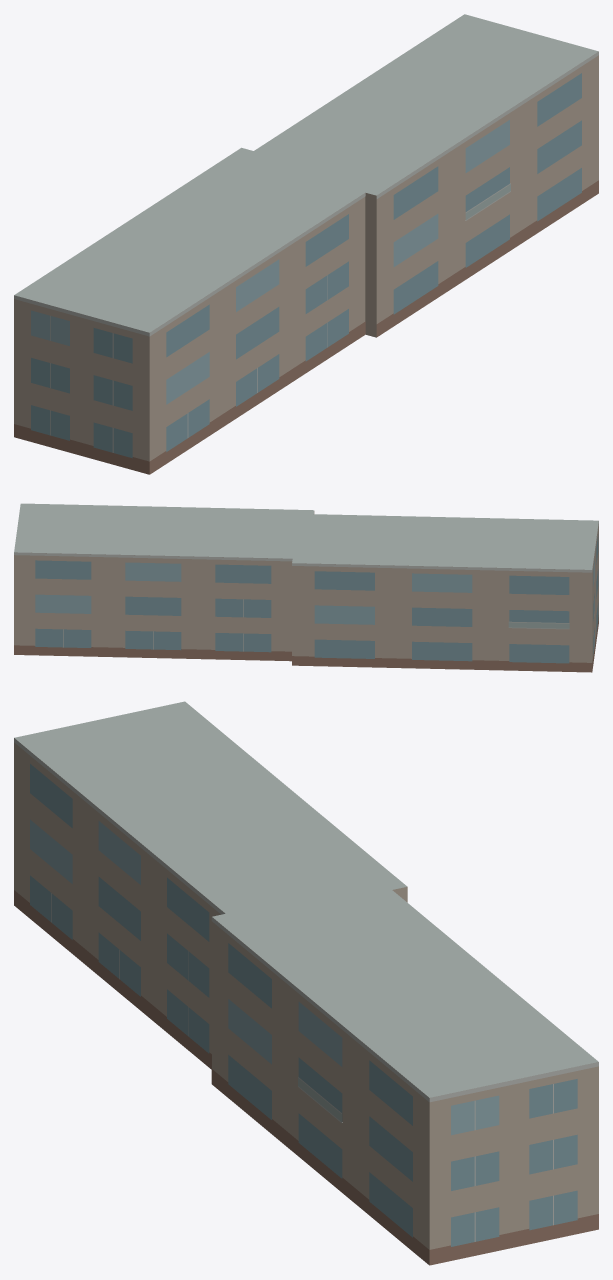
File: survey-upis-32707403.glb
The picture shows the model from 3 angles, top to bottom: view 1: azimuth 30°, elevation 25°; view 2: azimuth 150°, elevation 25°; view 3: azimuth 270°, elevation 25°; orthographic projection. The views are drawn at different scales.
Visible parts, largest first — view 1: survey-upis-32707403.tmp; view 2: survey-upis-32707403.tmp; view 3: survey-upis-32707403.tmp.
Boxes of the visible parts, x1=… form: survey-upis-32707403.tmp: x1=14, y1=14, x2=598, y2=474; survey-upis-32707403.tmp: x1=14, y1=503, x2=598, y2=672; survey-upis-32707403.tmp: x1=14, y1=701, x2=598, y2=1265.
Bounding box in the file's own units: 46.43 × 9.15 × 28.94.
